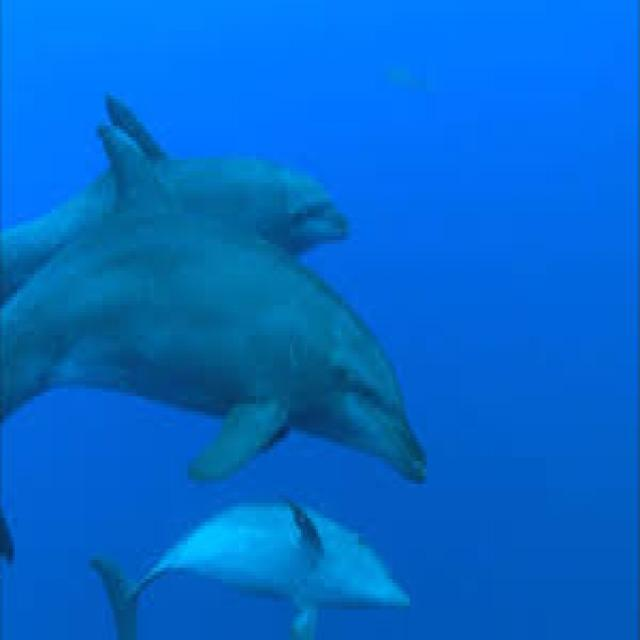dolphin: (7, 179, 436, 480), (104, 491, 424, 640)
